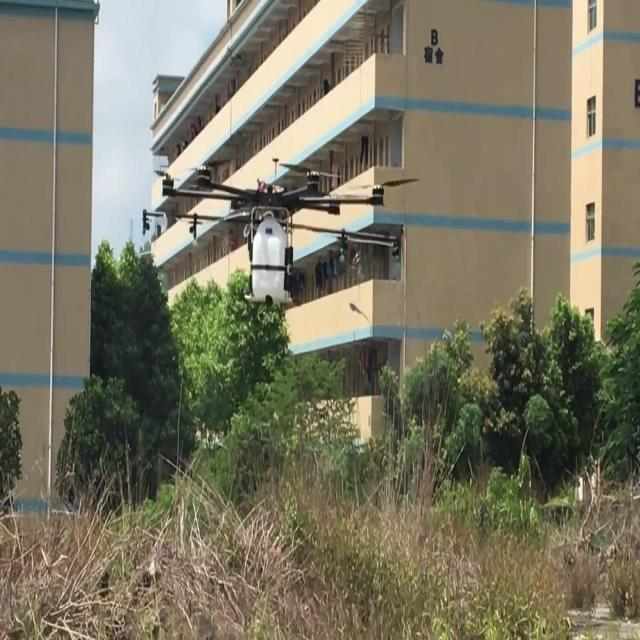drone: (138, 155, 419, 311)
